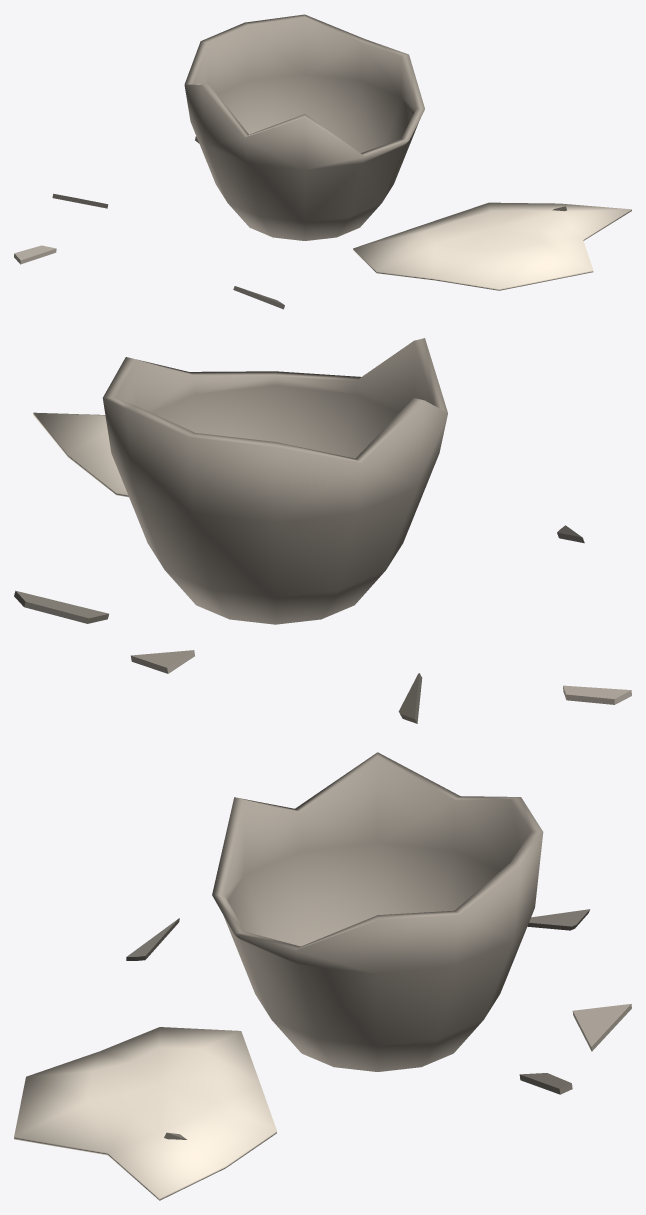
Rendered from SM_VKI_Overlay_Debris_Pottery_A.fbx.
3 renders of one model, top to bottom at view 1: azimuth 30°, elevation 25°; view 2: azimuth 150°, elevation 25°; view 3: azimuth 270°, elevation 25°, orthographic. The views are drawn at different scales.
Parts seen in each view (by area): view 1: SM_VKI_Overlay_Debris_Pottery_A.001; view 2: SM_VKI_Overlay_Debris_Pottery_A.001; view 3: SM_VKI_Overlay_Debris_Pottery_A.001.
Part boxes in pixels (x1,y1,x2,y2): SM_VKI_Overlay_Debris_Pottery_A.001: [14, 14, 631, 309]; SM_VKI_Overlay_Debris_Pottery_A.001: [14, 338, 631, 723]; SM_VKI_Overlay_Debris_Pottery_A.001: [14, 752, 631, 1200].
Bounding box in the file's own units: 0.9376 × 0.2714 × 0.7088.
